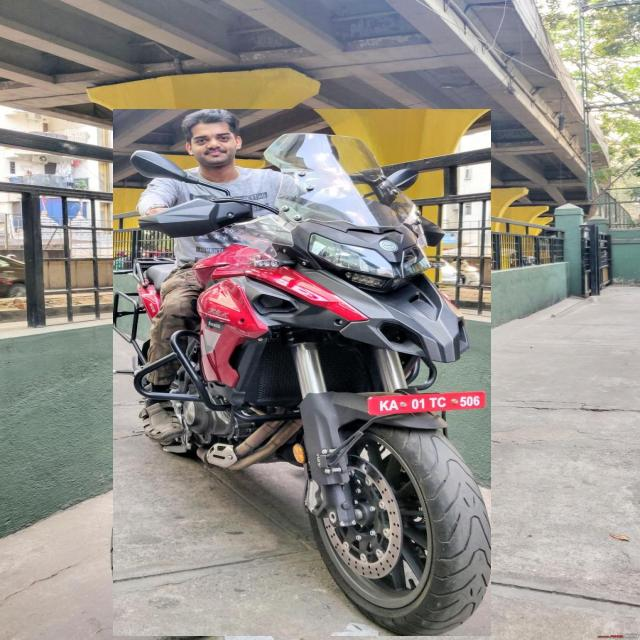motorcycle: (113, 110, 490, 636)
